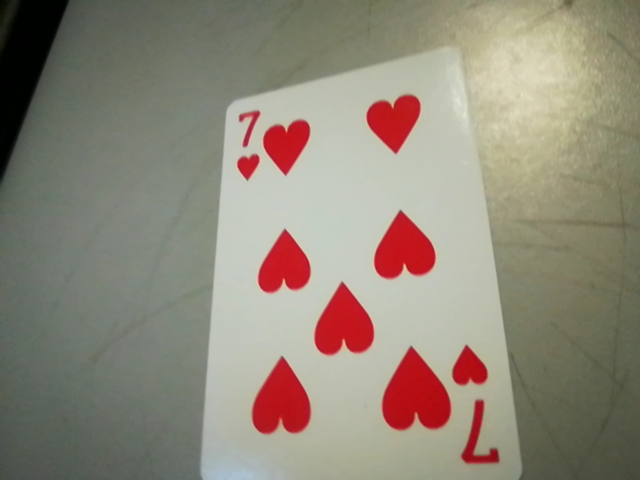hx 7: (446, 335, 511, 477)
